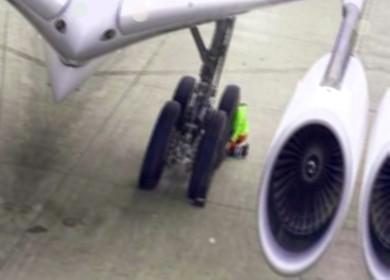chock: (190, 189, 212, 211)
wheel: (134, 95, 187, 194), (184, 104, 234, 208), (201, 82, 245, 172), (165, 73, 201, 132)
